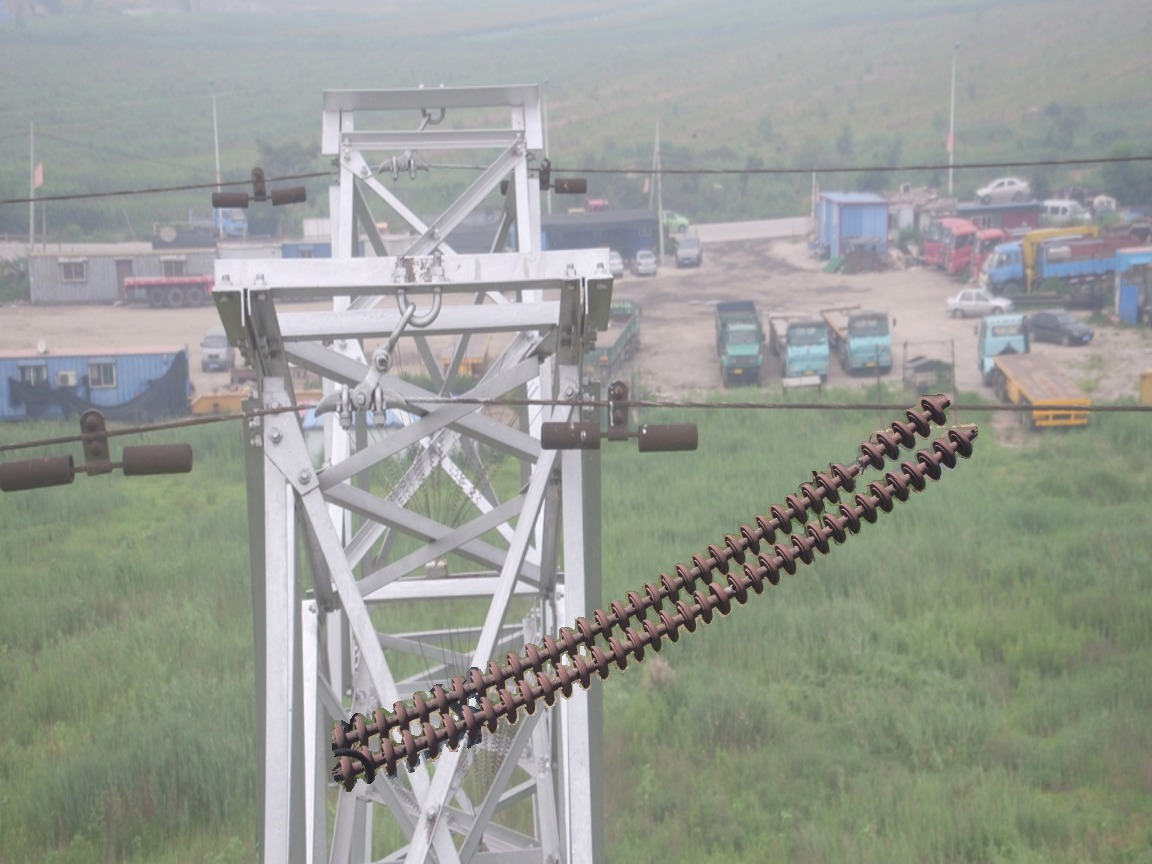defect: (826, 442, 886, 494)
